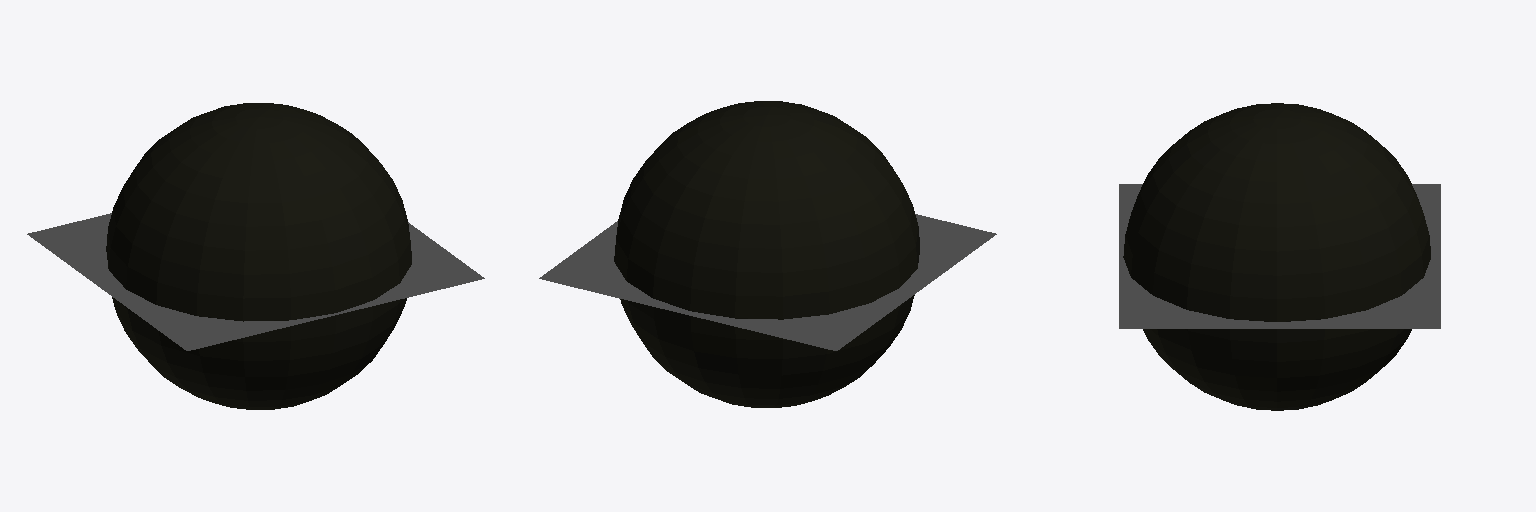
The model's file is walking-out-01.obj.
The picture shows the model from 3 angles: view 1: azimuth 30°, elevation 25°; view 2: azimuth 150°, elevation 25°; view 3: azimuth 270°, elevation 25°; orthographic projection.
Parts seen in each view (by area): view 1: pSphere1, pPlane1; view 2: pSphere1, pPlane1; view 3: pSphere1, pPlane1.
Part boxes in pixels (x1,y1,x2,y2): pSphere1: (106, 103, 411, 409); pPlane1: (27, 213, 484, 350); pSphere1: (614, 101, 919, 407); pPlane1: (539, 214, 996, 350); pSphere1: (1123, 103, 1430, 410); pPlane1: (1119, 184, 1440, 328).
Size of the model in its own units: 8105 by 7249 by 7561.